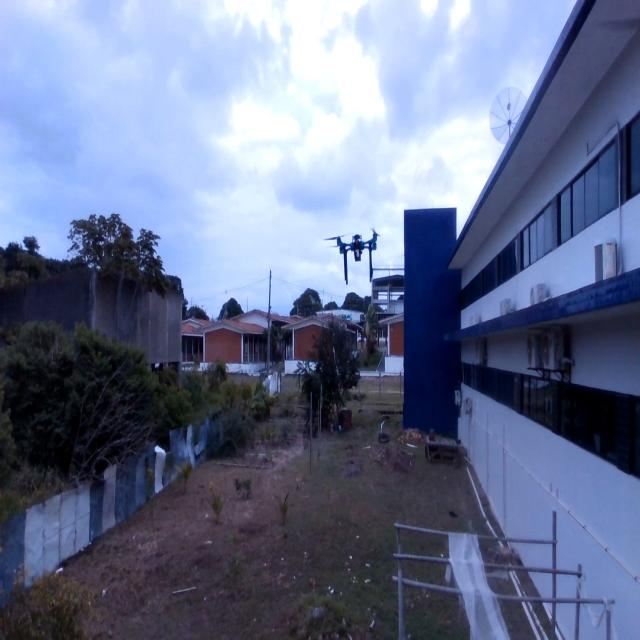-uav-: (321, 221, 387, 287)
